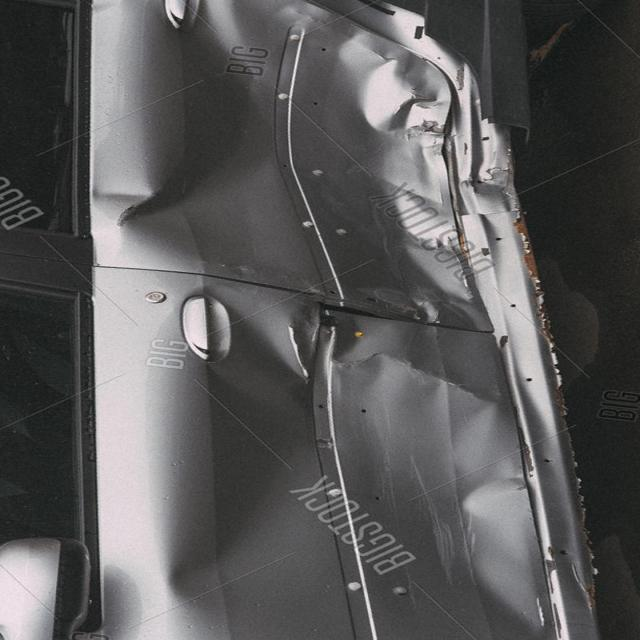dent: (107, 15, 510, 592)
